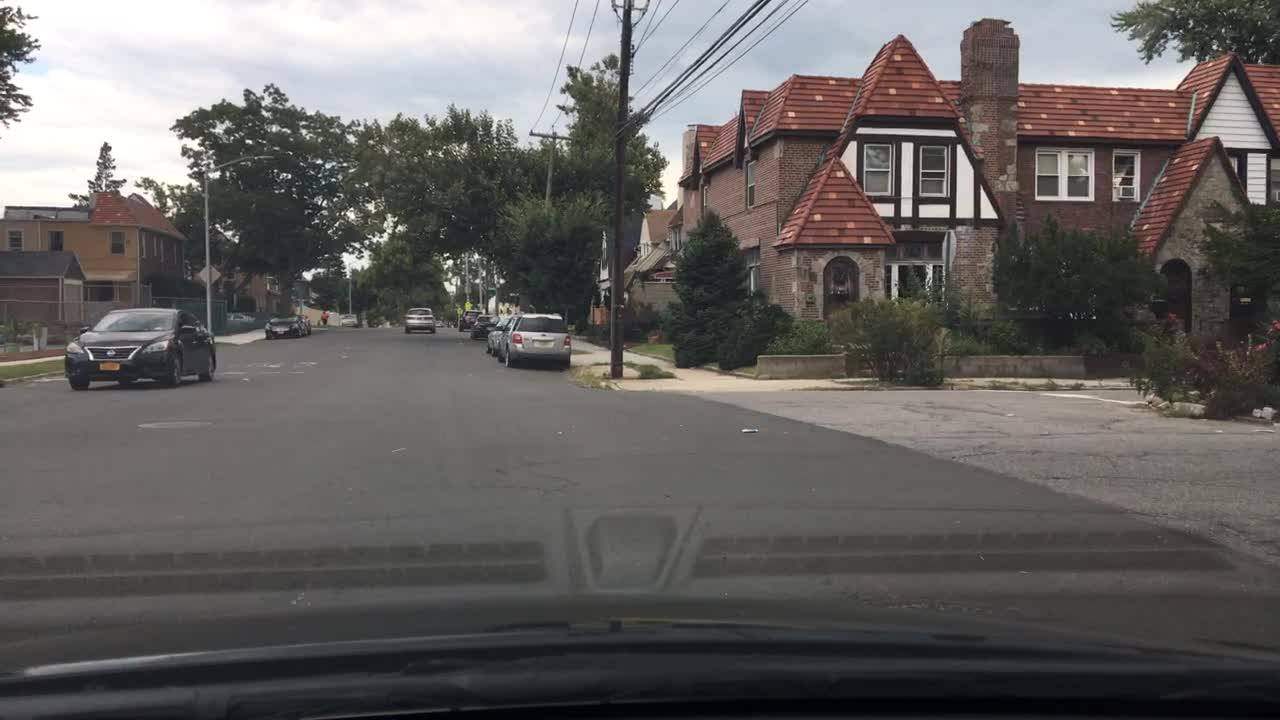car: (59, 303, 217, 391), (501, 309, 571, 370), (262, 315, 305, 340), (400, 304, 435, 334), (487, 311, 511, 354), (455, 308, 481, 330), (471, 314, 492, 336), (227, 308, 252, 319), (336, 310, 351, 326)
person: (316, 310, 329, 326)
traffic sign: (194, 264, 220, 283)
